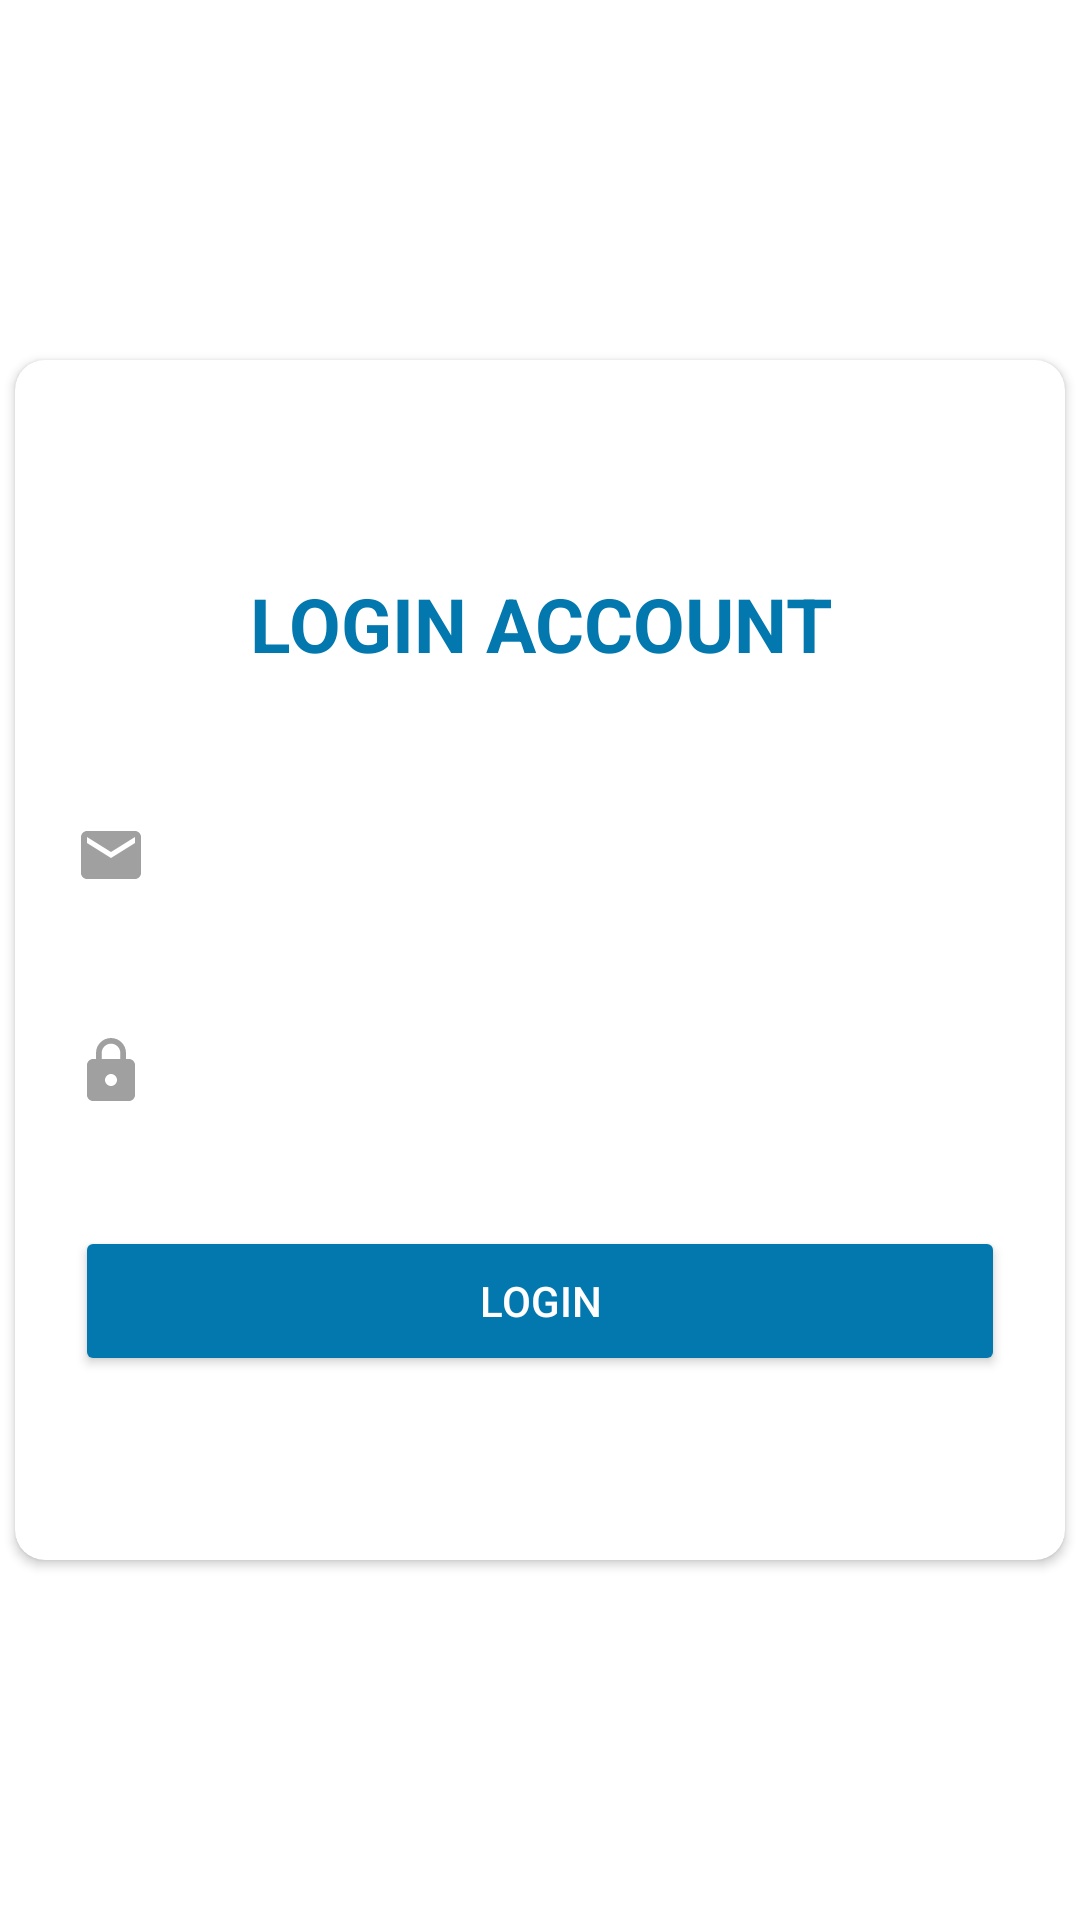

Icons on this 1080 x 1920 Android screen, each with its box as (x1, y1, x2, y2):
lock: (87, 1038, 135, 1101)
